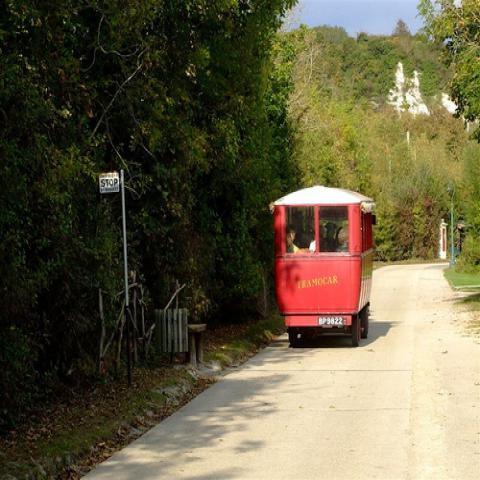bus: (273, 187, 375, 347)
